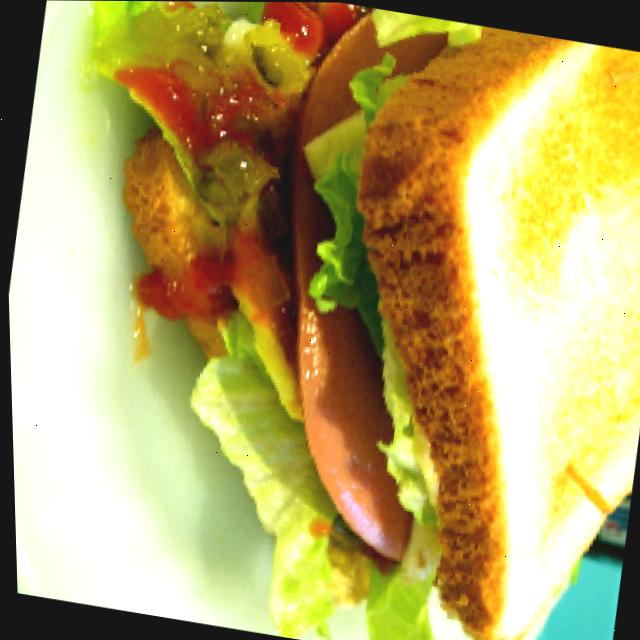三明治: (62, 0, 640, 640)
